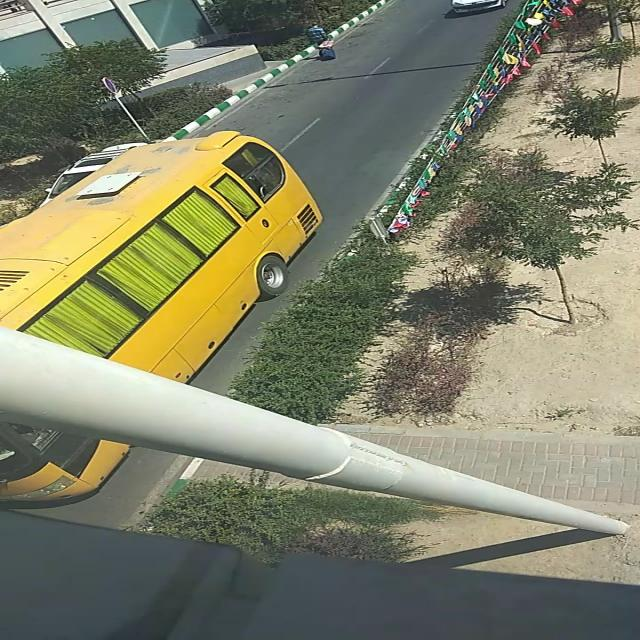bus: (0, 131, 327, 502)
car: (449, 0, 509, 14)
